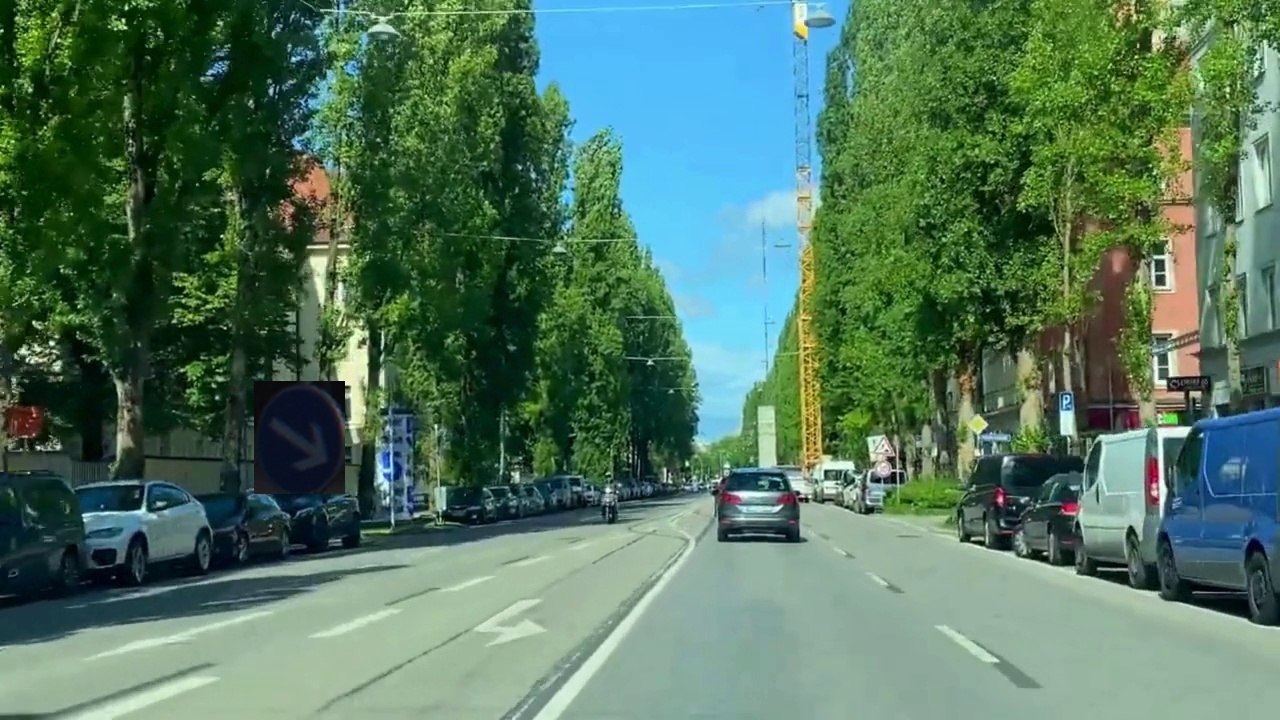Keep right: (254, 381, 345, 494)
